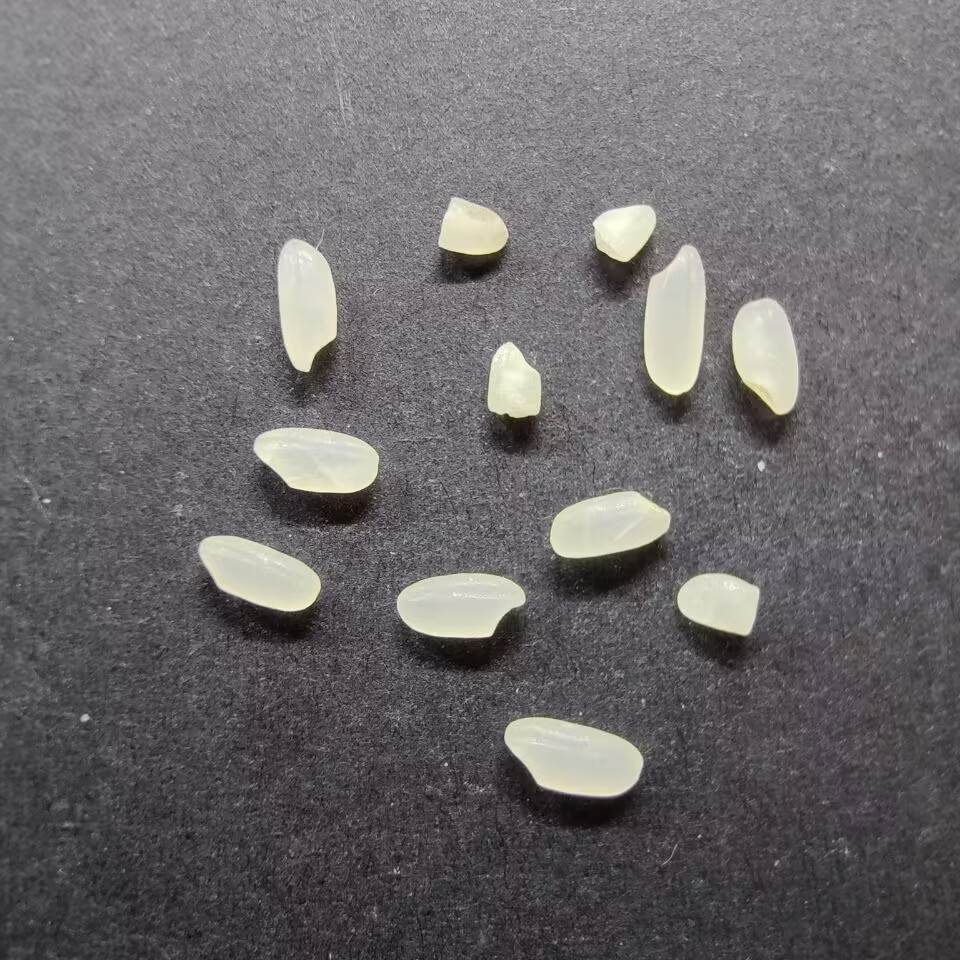broken: (674, 571, 763, 637), (484, 339, 543, 419), (434, 193, 508, 256), (590, 202, 659, 265)
rice: (501, 717, 645, 797), (642, 243, 706, 396), (196, 535, 321, 613), (251, 425, 382, 494), (548, 487, 672, 559), (393, 572, 528, 638), (729, 296, 801, 416), (275, 236, 337, 373)
